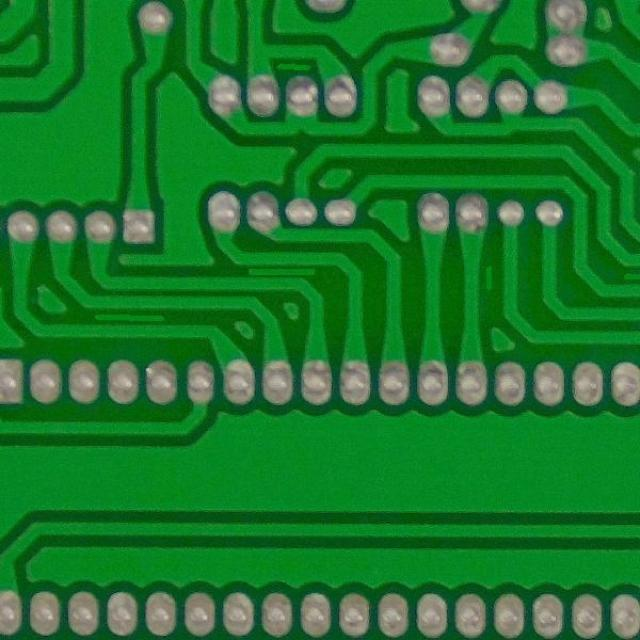Spurious_Cooper: (88, 310, 172, 326), (244, 264, 322, 278), (480, 260, 498, 294), (272, 59, 316, 72), (617, 268, 640, 285)
